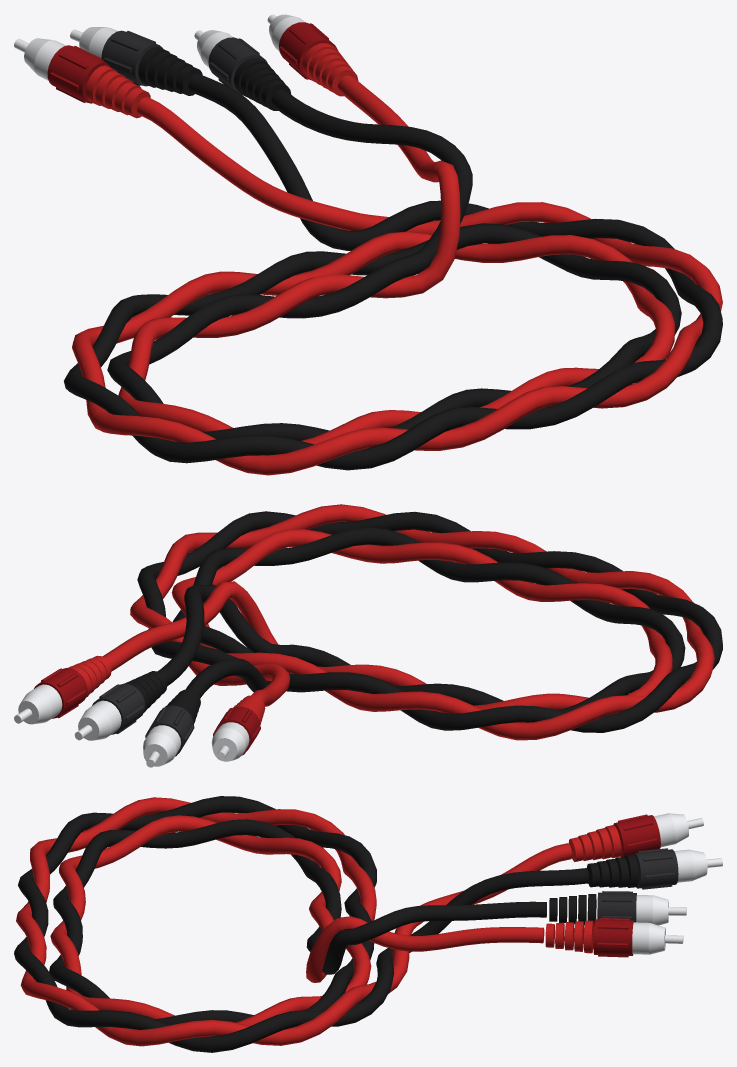
The model's file is rca-cable-3.glb.
3 views of the same model, one above another, from view 1: azimuth 30°, elevation 25°; view 2: azimuth 150°, elevation 25°; view 3: azimuth 270°, elevation 25° (orthographic). The views are drawn at different scales.
Parts seen in each view (by area): view 1: rca-cable; view 2: rca-cable; view 3: rca-cable.
Boxes of the visible parts, box(x1,y1,x2,y2) form: rca-cable: box(14, 14, 722, 475); rca-cable: box(14, 504, 722, 767); rca-cable: box(14, 796, 722, 1052).
Size of the model in its own units: 0.2057 by 0.0433 by 0.2561.
